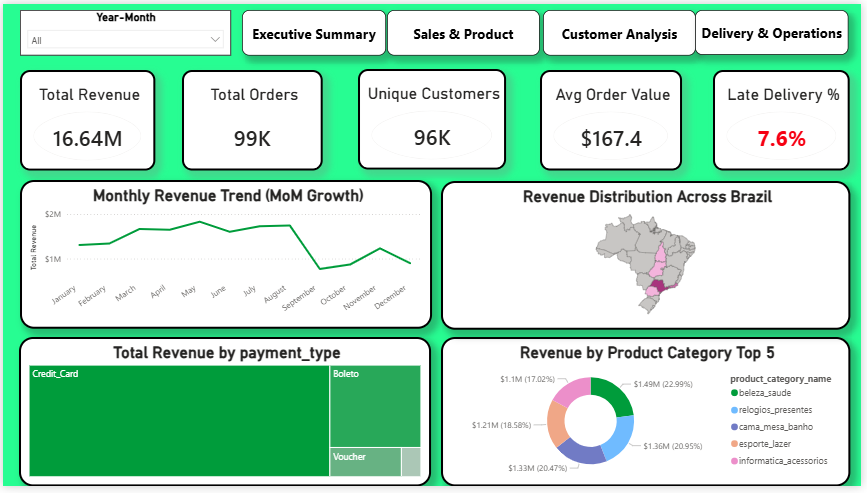

The dashboard page shown, as its layout file describes it:
{"tool":"powerbi","page":{"name":"Executive Summary","canvas":[1280,720],"ordinal":0},"visuals":[{"type":"slicer","title":"Year-Month","fields":{"Values":["master_sales_data.Order Date"]},"box":[25,8.3,315,68.3],"z":0},{"type":"cardVisual","title":"Total Revenue","fields":{"Data":["master_sales_data.Total Revenue"]},"box":[25,98.3,201.7,150],"z":1000},{"type":"cardVisual","title":"Avg Order Value","fields":{"Data":["master_sales_data.Avg Order Value"]},"box":[802.1,97.9,211.7,149.8],"z":2000},{"type":"cardVisual","title":"Total Orders","fields":{"Data":["master_sales_data.Total Orders"]},"box":[267.8,97.9,210.2,149.8],"z":3000},{"type":"cardVisual","title":"Unique Customers","fields":{"Data":["master_sales_data.Unique Customers"]},"box":[529.3,96.6,220.7,150],"z":4000},{"type":"donutChart","title":"Revenue by Product Category Top 5","fields":{"Category":["master_sales_data.product_category_name"],"Y":["master_sales_data.Total Revenue"]},"box":[653.8,496.8,610.6,223.2],"z":5000},{"type":"cardVisual","title":"Late Delivery %","fields":{"Data":["master_sales_data.Late Delivery %"]},"box":[1059.8,97.9,204.5,149.8],"z":6000},{"type":"actionButton","box":[356.7,8.3,215,68.3],"z":7000},{"type":"actionButton","box":[573.3,8.3,228.3,68.3],"z":8000},{"type":"actionButton","box":[806.7,8.3,228.3,68.3],"z":9000},{"type":"actionButton","box":[1032.8,8.6,229.3,67.2],"z":10000},{"type":"lineChart","title":"Monthly  Revenue  Trend  (MoM Growth)","fields":{"Y":["master_sales_data.Total Revenue"],"Category":["master_sales_data.Order Date.Variation.Date Hierarchy.Month"]},"box":[25,263.3,615,221.7],"z":11000},{"type":"treemap","fields":{"Values":["master_sales_data.Total Revenue"],"Group":["master_sales_data.payment_type"]},"box":[24.5,496.8,614.9,223.2],"z":12000},{"type":"shapeMap","title":"Revenue Distribution Across Brazil","fields":{"Category":["master_sales_data.customer_city"],"Value":["master_sales_data.Revenue Contribution %"]},"box":[653.8,263.5,610.6,221.8],"z":13000}]}

Visuals, with their boxes in screenshot pixels (x1, y1, x2, y2), scaled from the page's 1280x720 canvas onto the 867x493 screenshot:
"Year-Month" slicer: [17,6,230,52]
"Total Revenue" cardVisual: [17,67,154,170]
"Avg Order Value" cardVisual: [543,67,687,170]
"Total Orders" cardVisual: [181,67,324,170]
"Unique Customers" cardVisual: [359,66,508,169]
"Revenue by Product Category Top 5" donutChart: [443,340,856,492]
"Late Delivery %" cardVisual: [718,67,856,170]
actionButton: [242,6,387,52]
actionButton: [388,6,543,52]
actionButton: [546,6,701,52]
actionButton: [700,6,855,52]
"Monthly  Revenue  Trend  (MoM Growth)" lineChart: [17,180,434,332]
treemap - master_sales_data.Total Revenue x master_sales_data.payment_type: [17,340,433,492]
"Revenue Distribution Across Brazil" shapeMap: [443,180,856,332]
